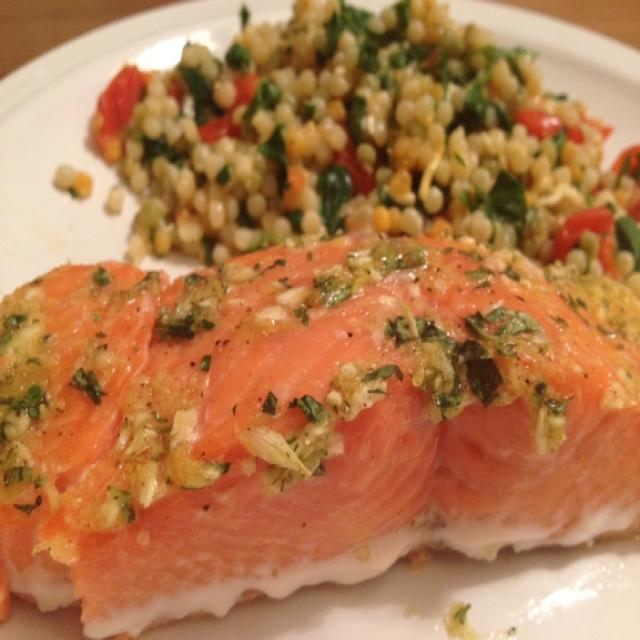熟制海鲜: (6, 10, 626, 624)
